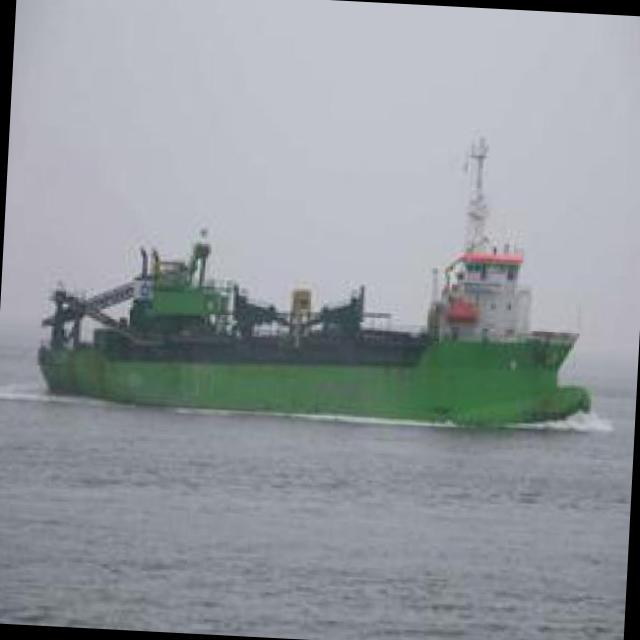boat: (17, 223, 604, 442)
